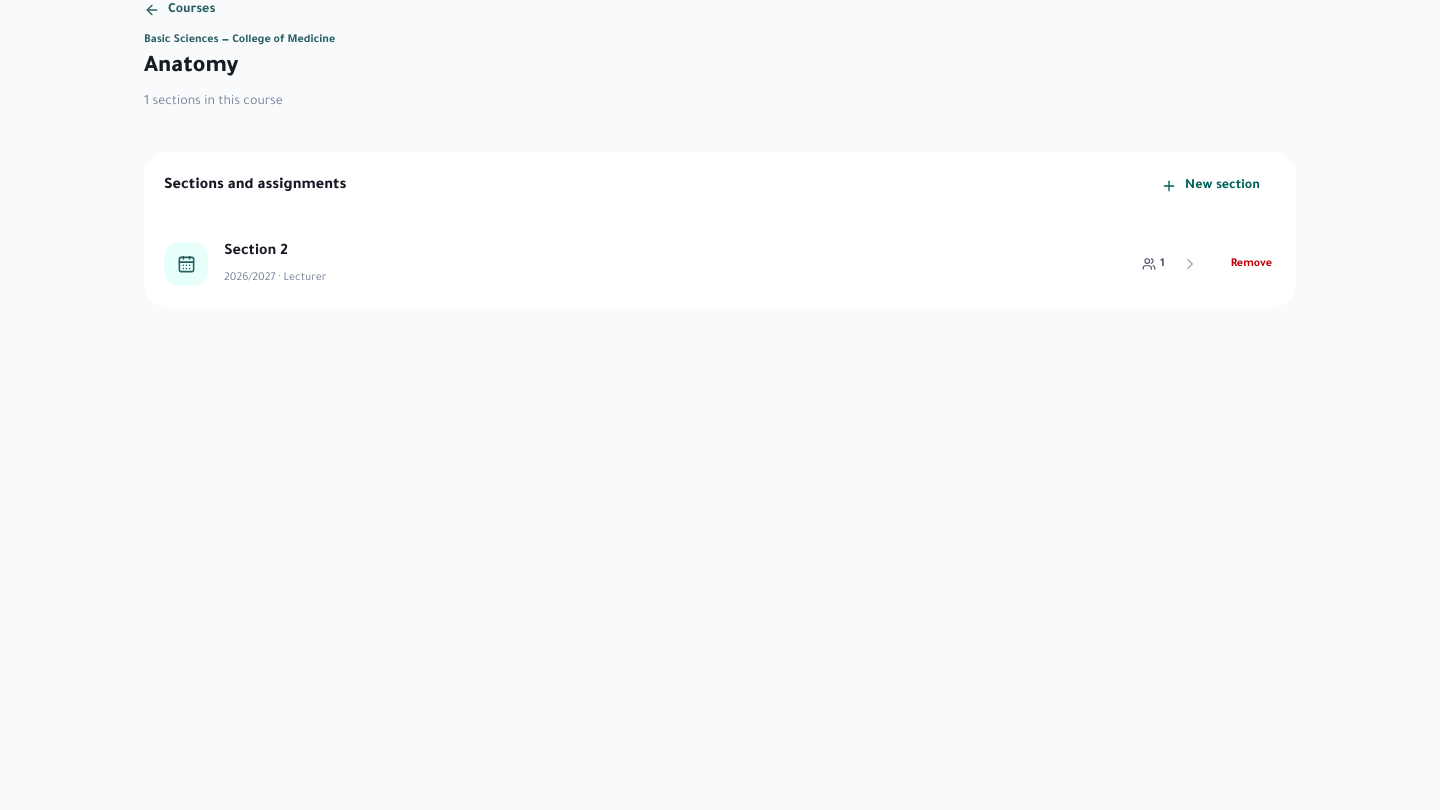
Scenario: opens the add section form from the selected course without a setup page
Click the button "New section" at coordinates (1211, 186), box [1145,168,1276,204]
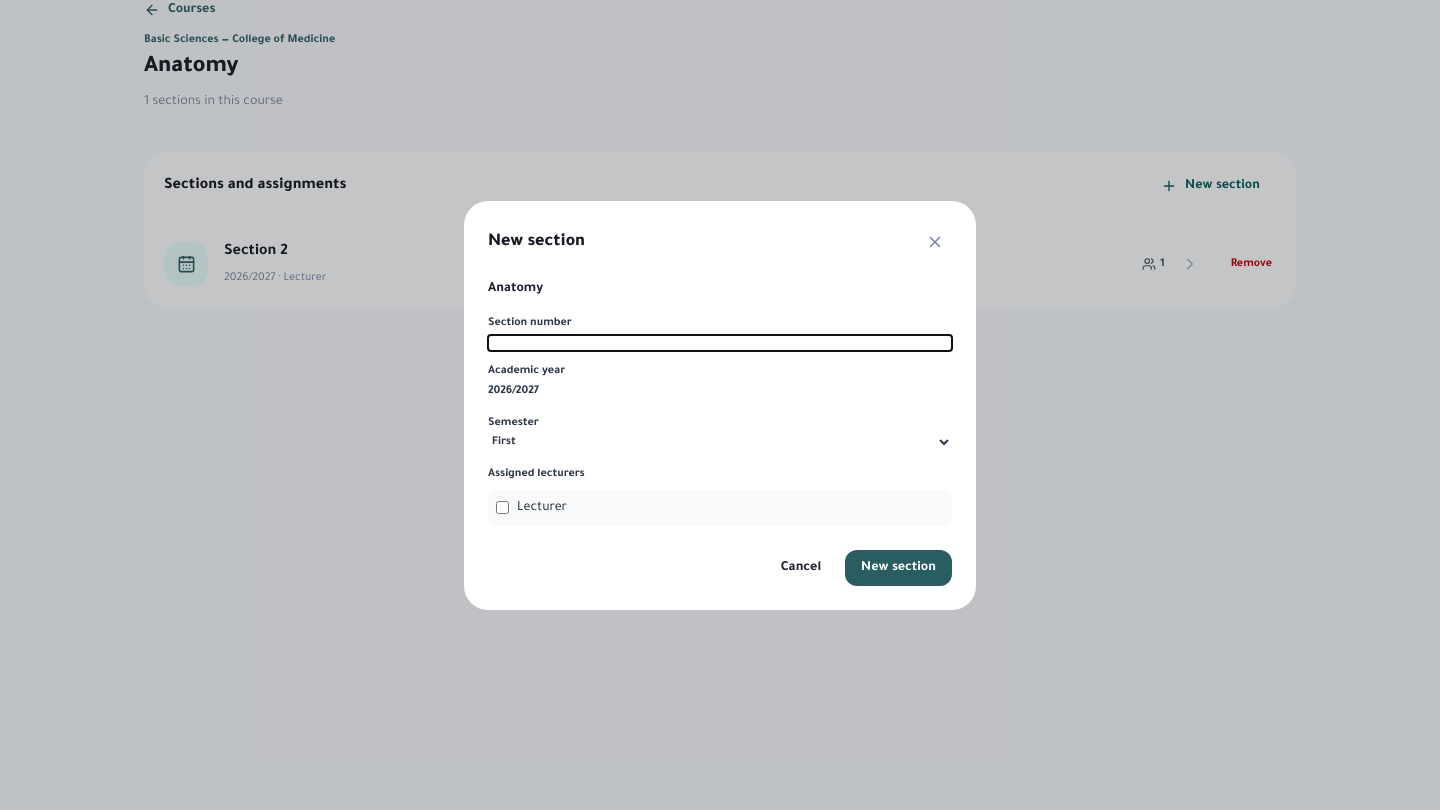
Result: the dialog "New section" is shown at [464,200,976,610]
Type "3" into the field labelled "Section number" at coordinates (720, 342), box [488,334,952,350]
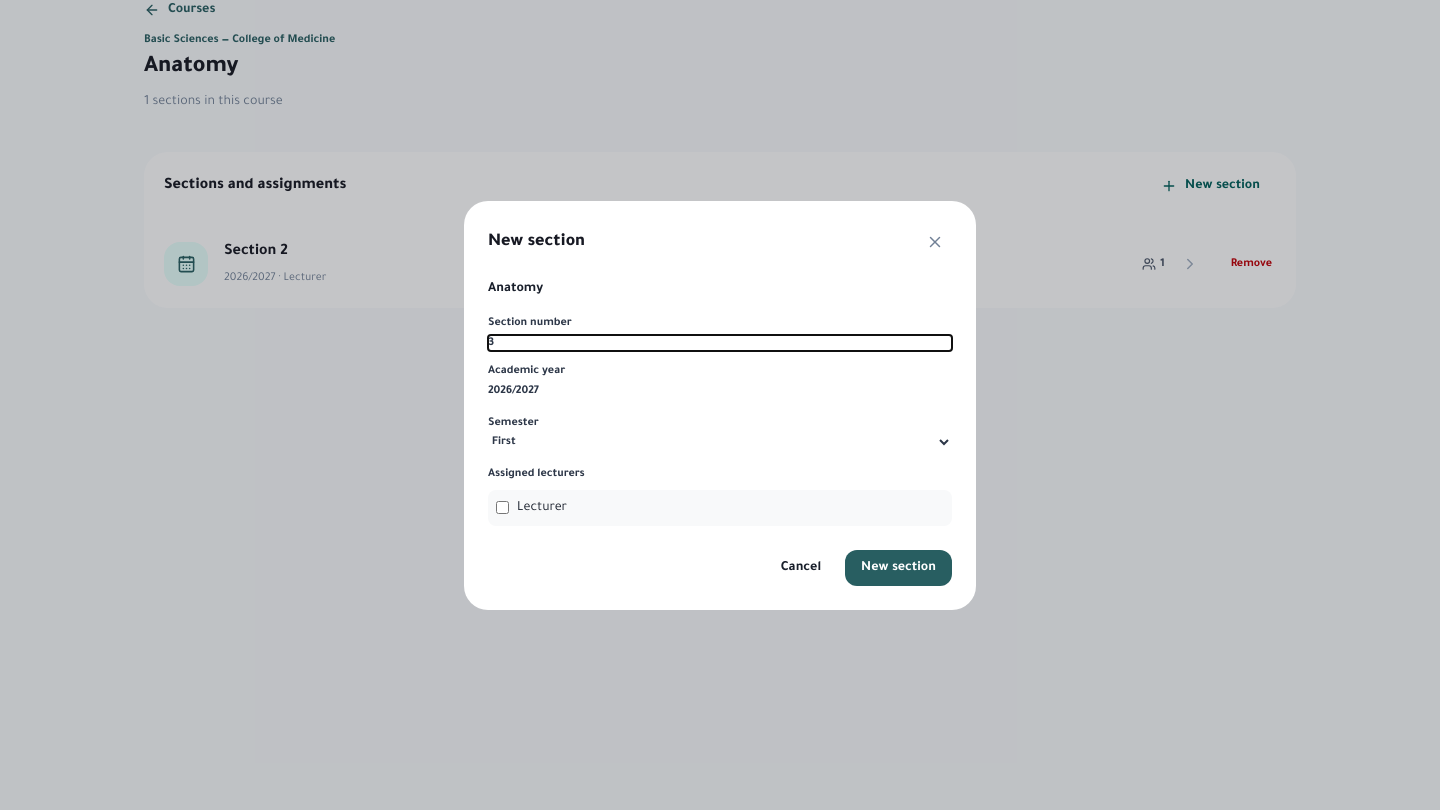
Click the checkbox labelled "Lecturer" at coordinates (502, 508), box [496,501,509,514]
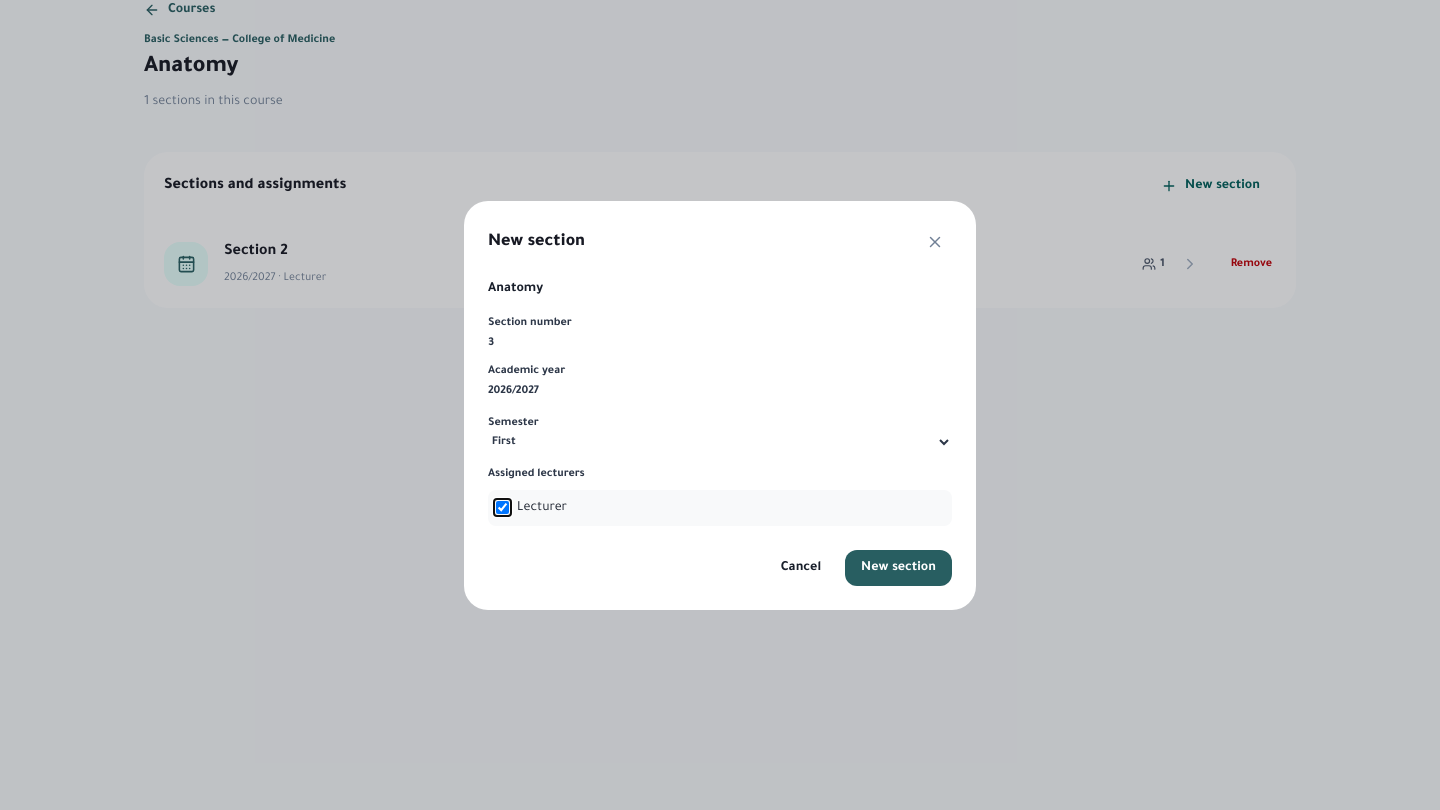
Click the submit button at coordinates (899, 568), box [845,550,952,586]
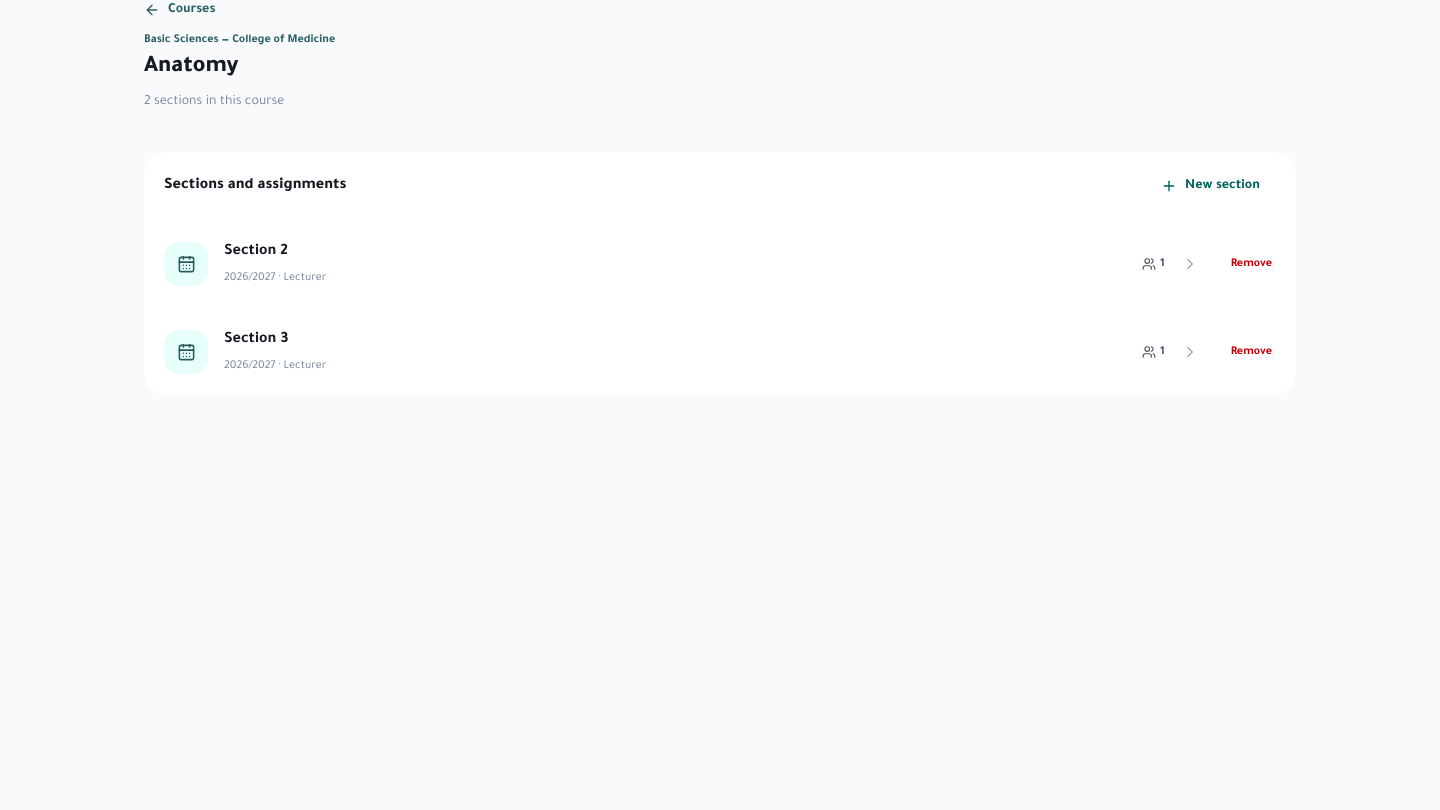
Result: the link "Section 3 2026/2027 · Lecturer 1" is shown at [164,330,1199,374]
